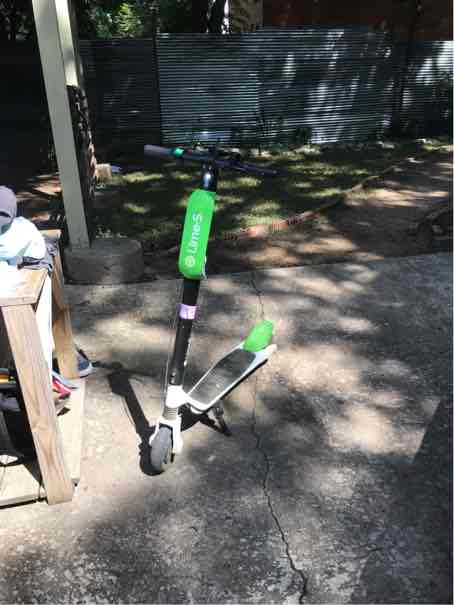scooter: (129, 128, 308, 497)
